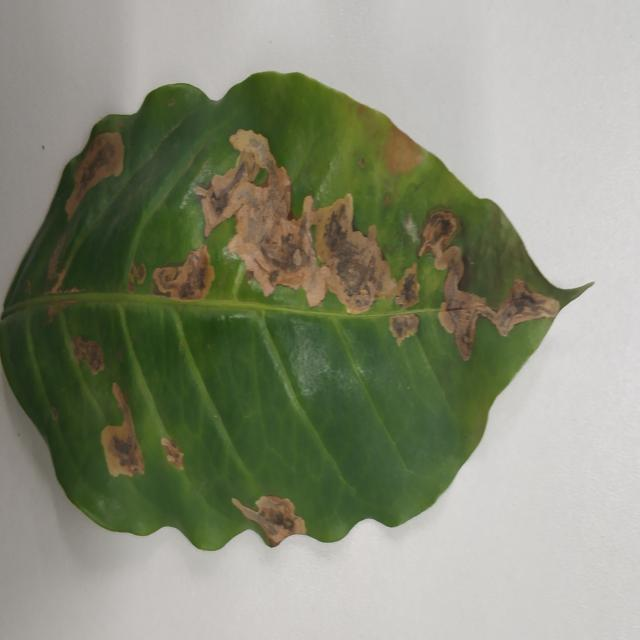Plaga-Minador: (0, 71, 592, 553)
